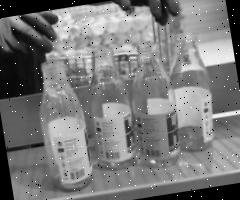glass: (30, 30, 226, 195)
